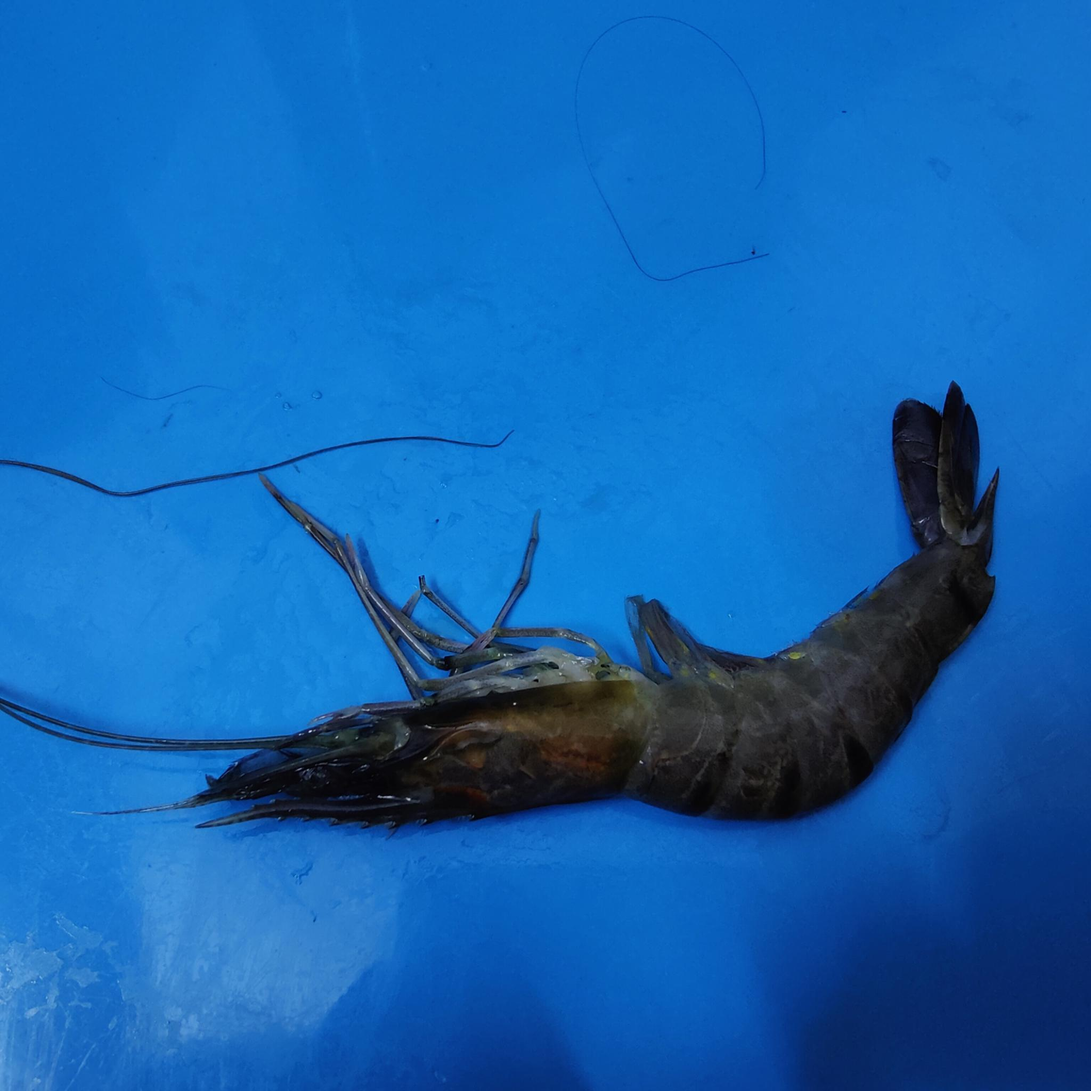blackgill: (409, 674, 653, 774)
